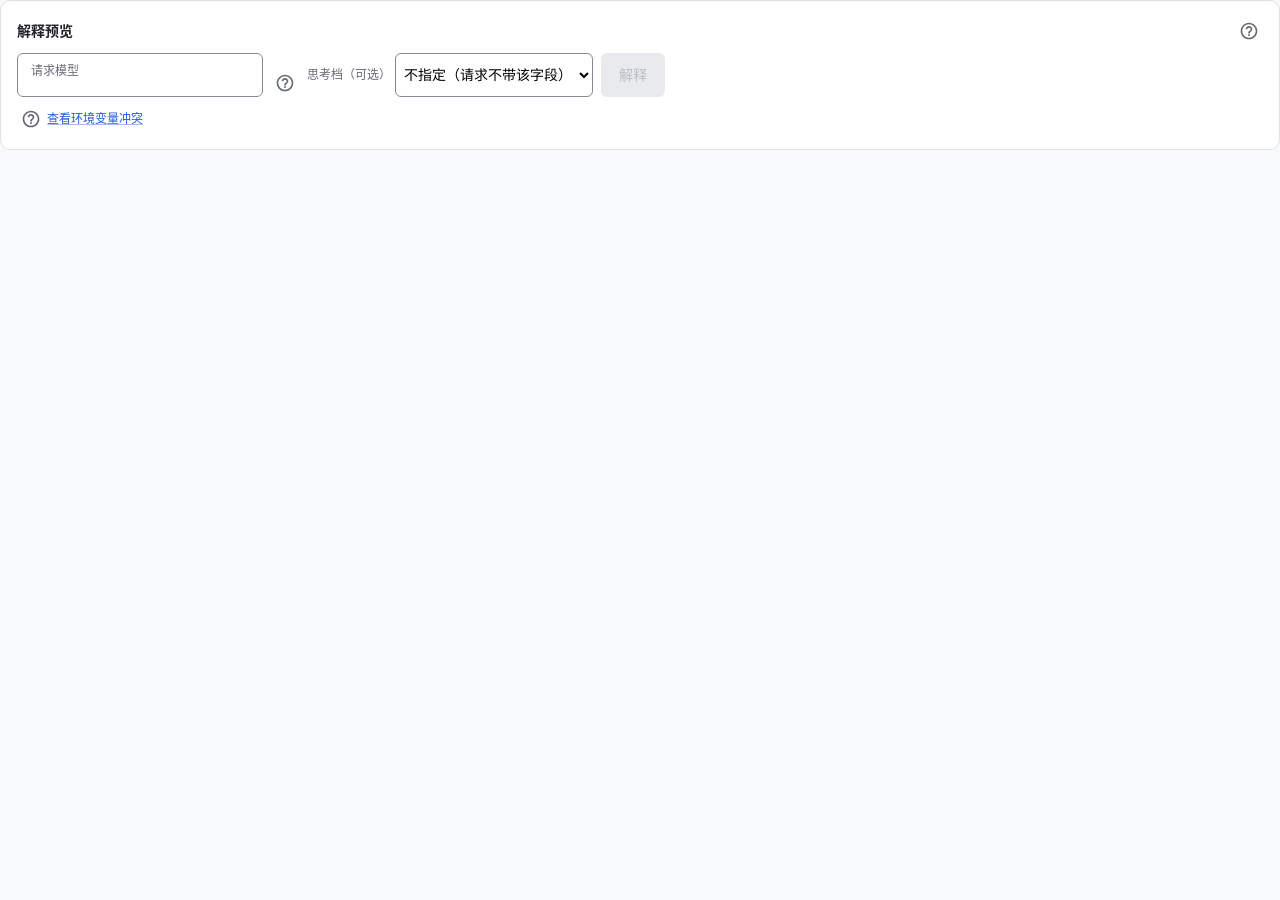
Test: RouteExplainPanel（UC-096） › arm 命中展开完整链路、去向和版本；未知可选字段不制造额外事实
Type "mimo" into the field labelled "请求模型" at (140, 75), box x1=17 y1=56 x2=263 y2=94
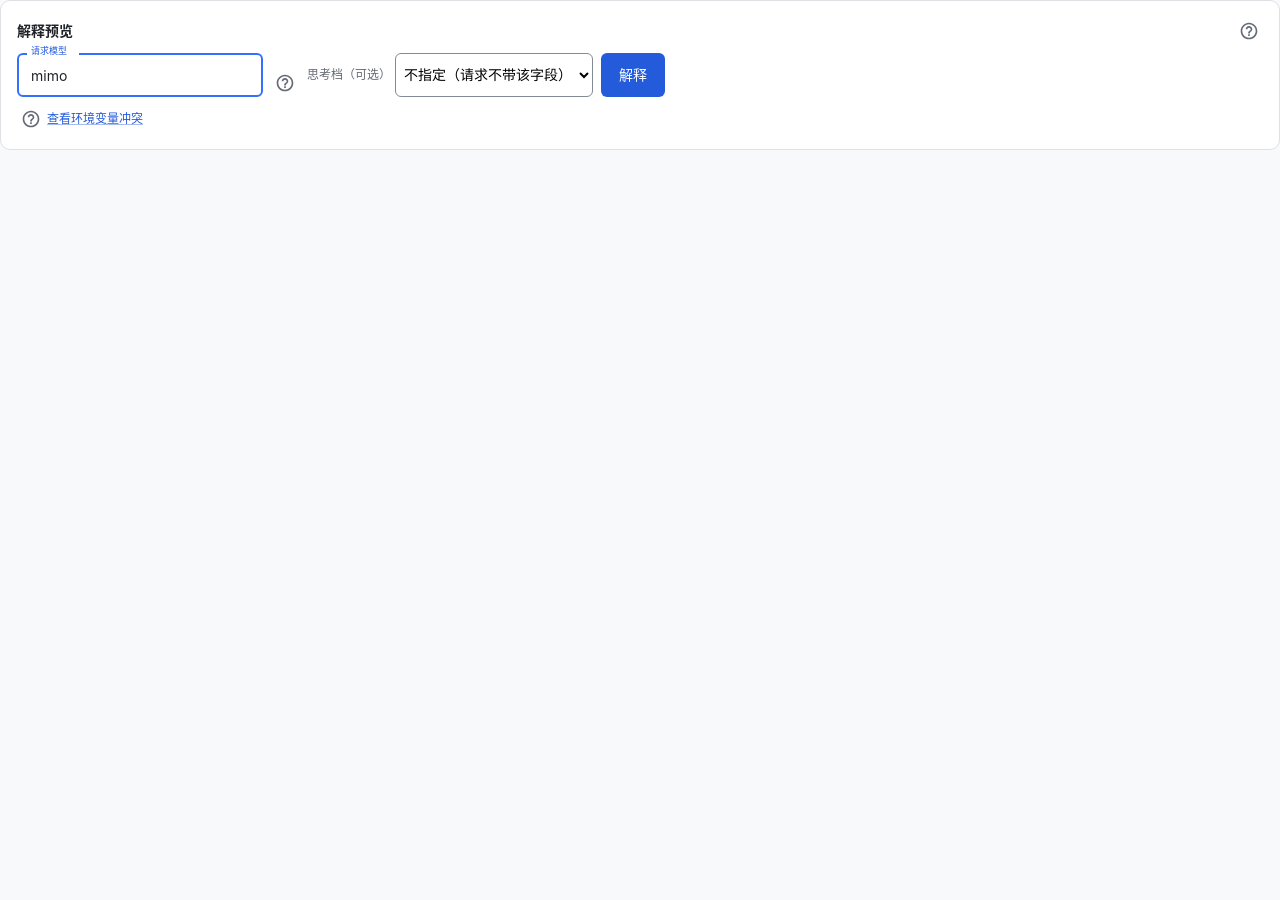
Click the button "解释" at (633, 75), box x1=601 y1=53 x2=665 y2=97
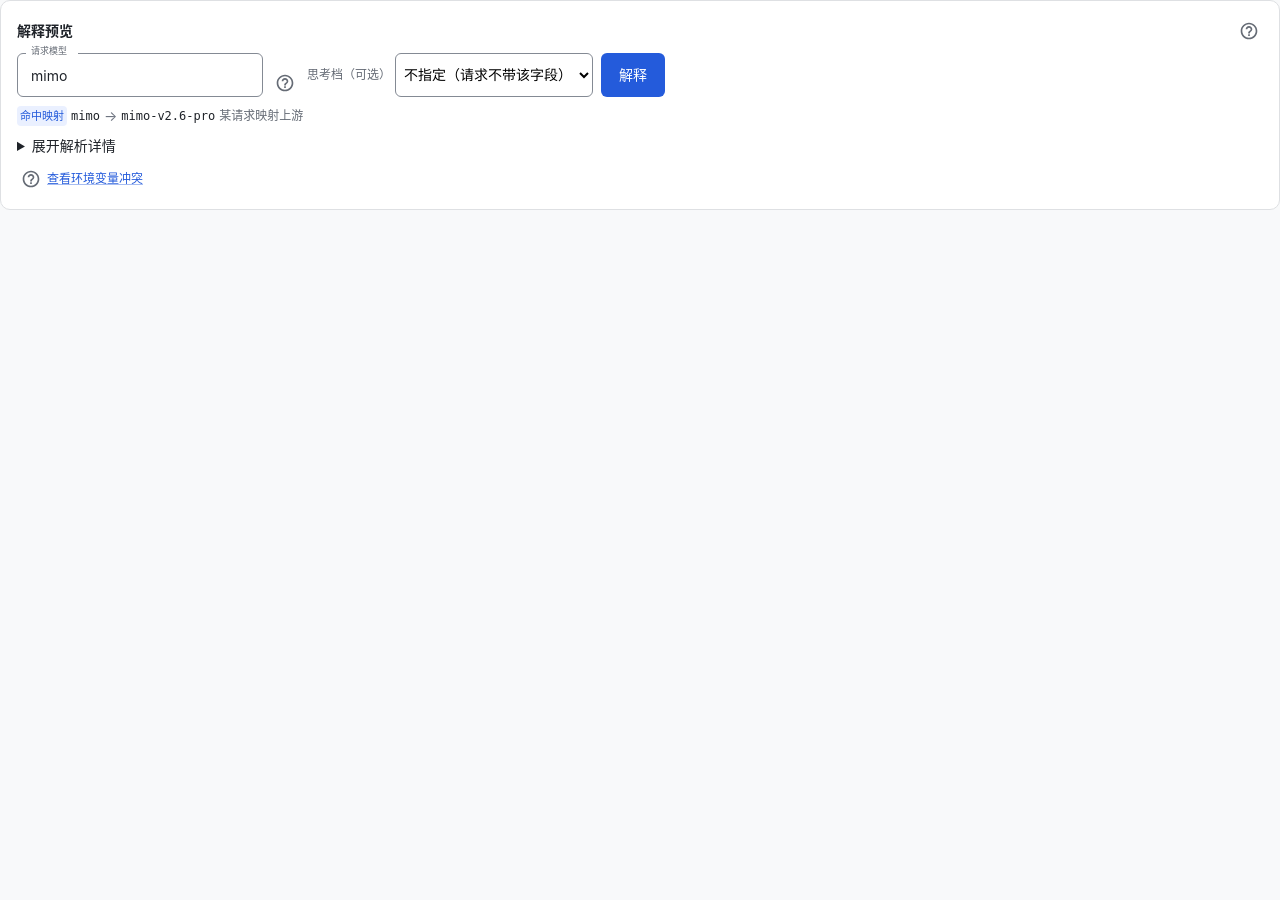
Expected: the element showing "展开解析详情" is shown
Expected: the heading "展开解析详情" is shown
Click the heading "展开解析详情" at (74, 146), box x1=32 y1=137 x2=116 y2=154
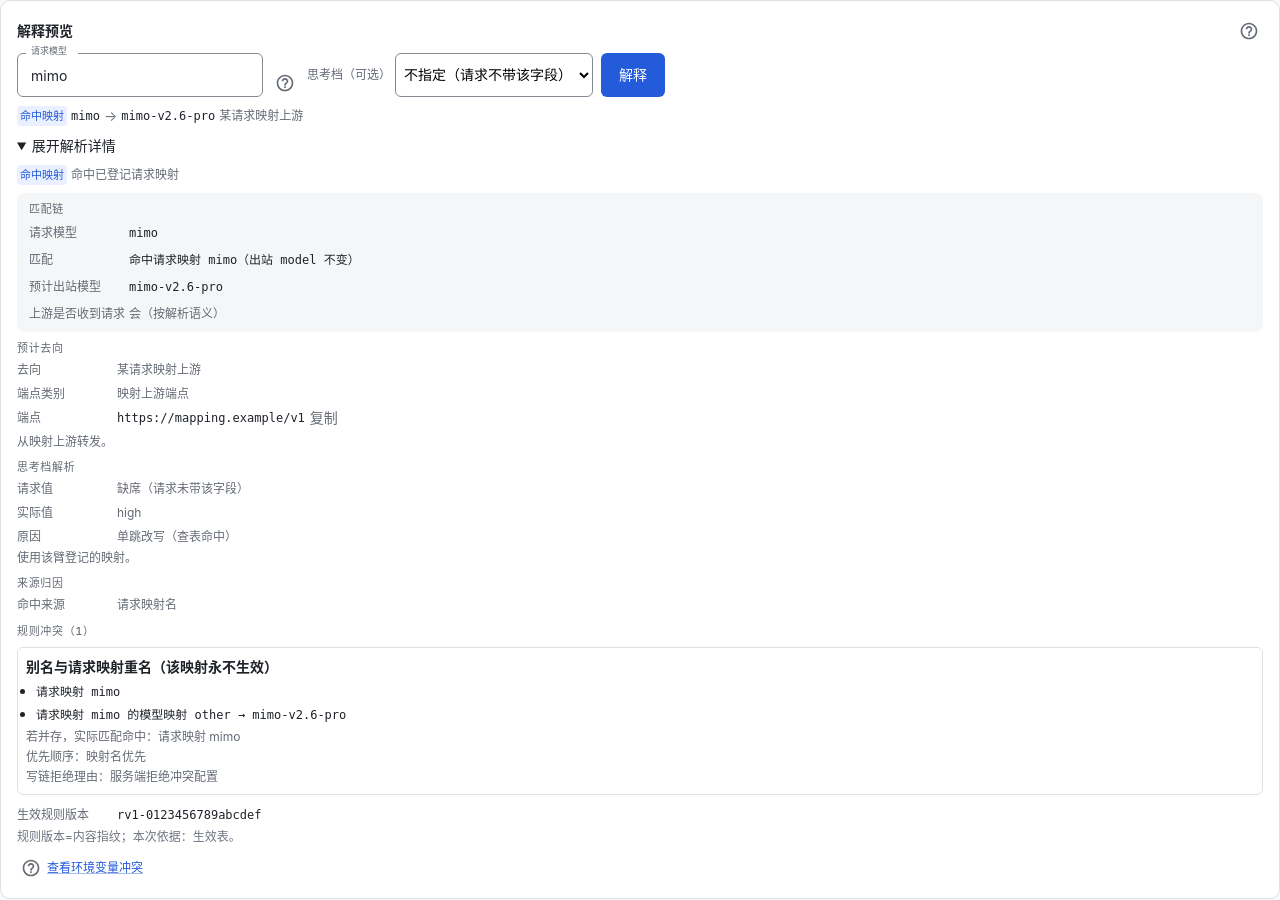
Expected: the text "命中请求映射 mimo（出站 model 不变）" is shown, x1=129 y1=253 x2=360 y2=267
Expected: the text "https://mapping.example/v1" is shown, x1=117 y1=407 x2=305 y2=429
Expected: the text "请求映射名" is shown, x1=117 y1=596 x2=177 y2=612
